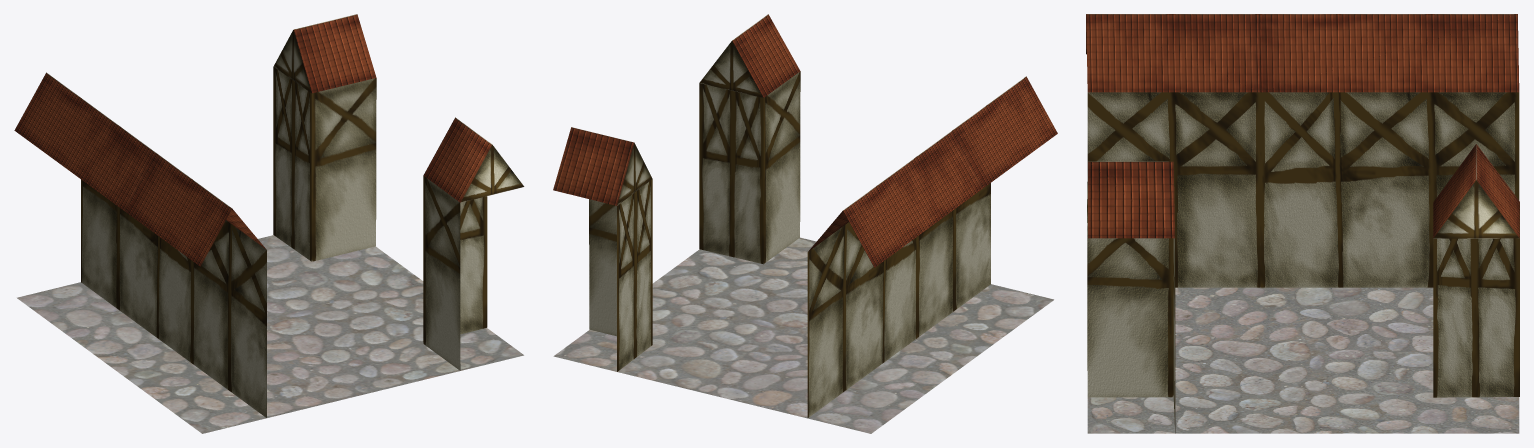
File: 3-5_T_Edges_v1.fbx
3 views of the same model, side by side, from view 1: azimuth 30°, elevation 25°; view 2: azimuth 150°, elevation 25°; view 3: azimuth 270°, elevation 25° (orthographic). The views are drawn at different scales.
Parts seen in each view (by area): view 1: T_edges_v1; view 2: T_edges_v1; view 3: T_edges_v1.
Part boxes in pixels (<box>): T_edges_v1: <box>14,14,524,433</box>; T_edges_v1: <box>553,14,1057,433</box>; T_edges_v1: <box>1086,14,1519,433</box>.
Bounding box in the file's own units: 101 × 64.88 × 100.
2 materials, 2 textured.
